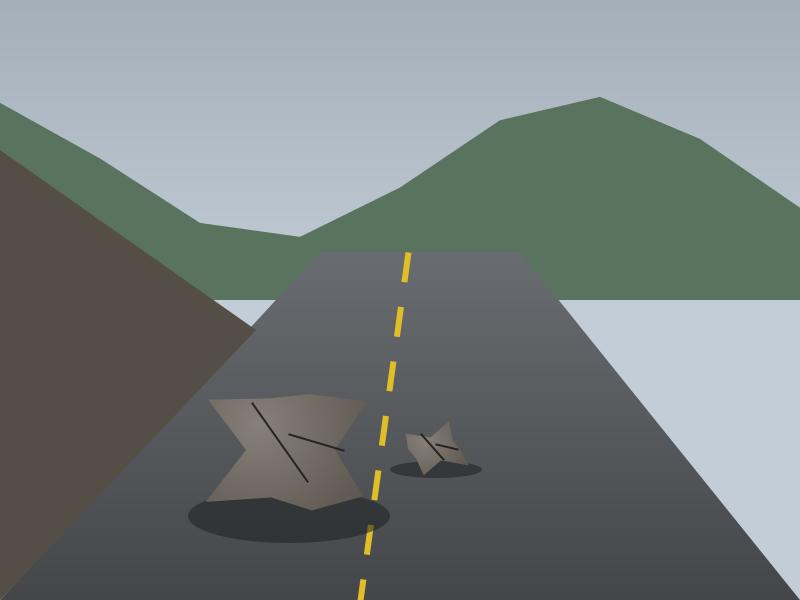ROAD_OBSTACLE: (198, 372, 380, 528), (400, 424, 472, 474)
